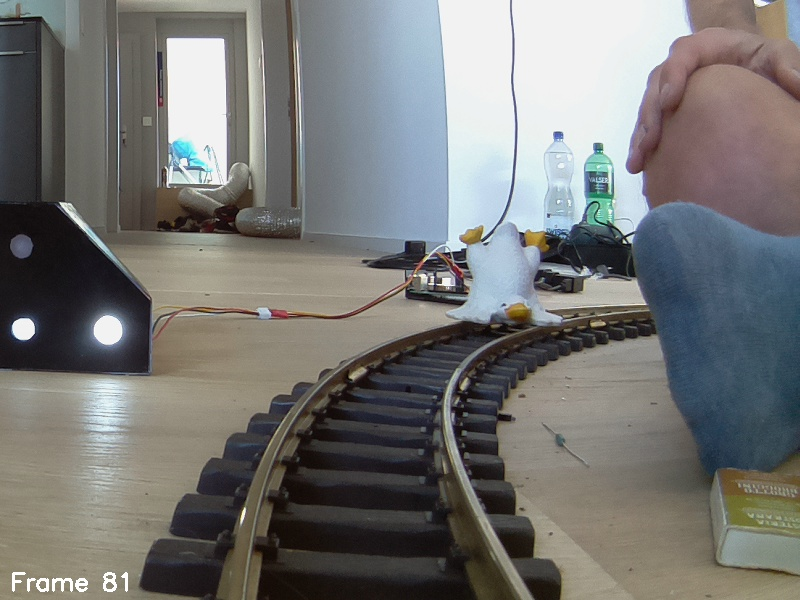Ente: (440, 220, 562, 334)
Halt: (1, 203, 148, 374)
